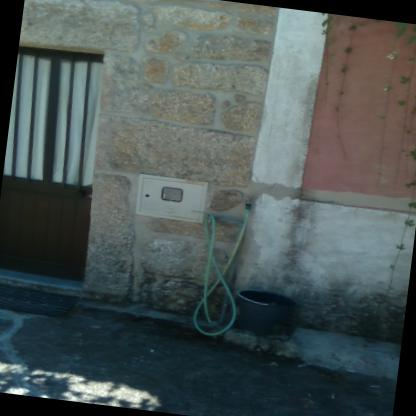closed: (0, 34, 131, 289)
